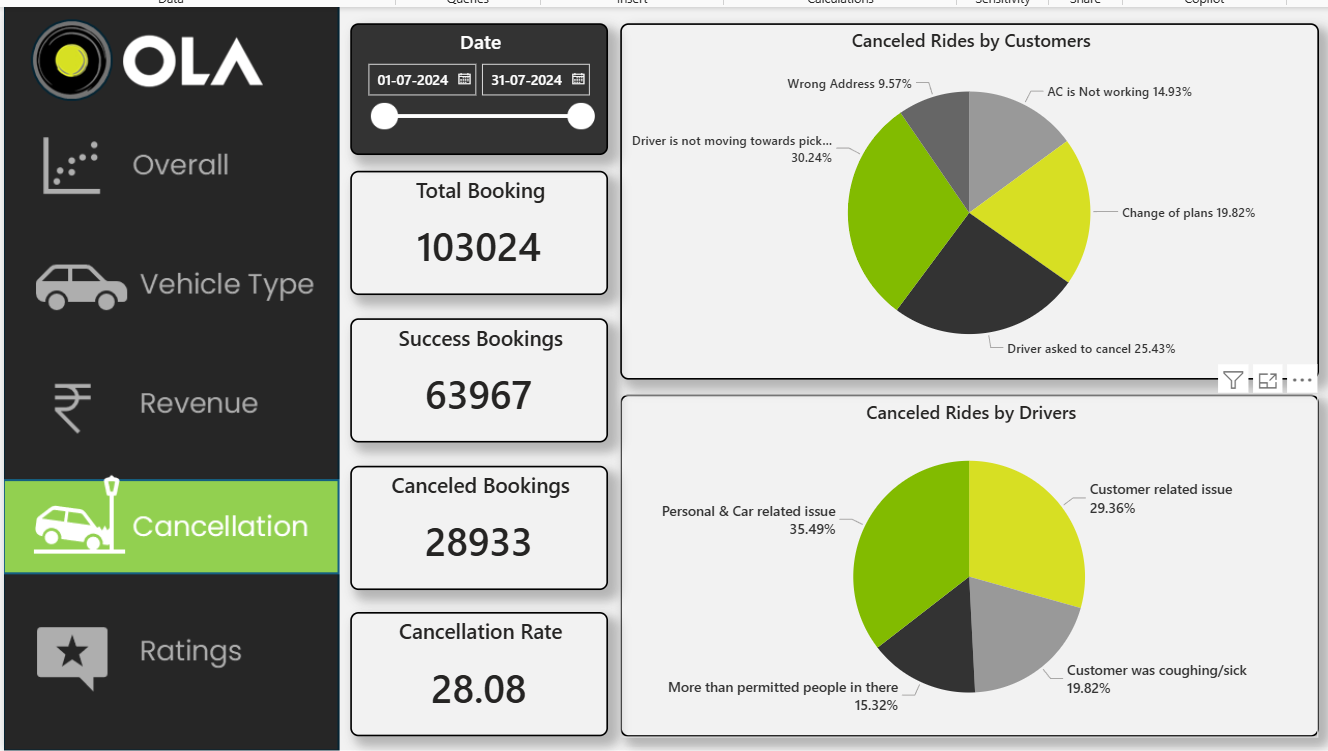

This screenshot's page, from the dashboard's own definition file:
{"tool":"powerbi","page":{"name":"Cancellation","canvas":[1280,720],"ordinal":3},"visuals":[{"type":"actionButton","box":[1.2,575.5,322.1,92.9],"z":0},{"type":"actionButton","box":[2.4,450,322.1,101.3],"z":1000},{"type":"actionButton","box":[0,343.8,322.1,92.9],"z":2000},{"type":"actionButton","box":[0,223.2,322.1,92.9],"z":3000},{"type":"actionButton","box":[0,112.2,322.1,92.9],"z":4000},{"type":"pieChart","title":"Canceled Rides by Customers","fields":{"Y":["CountNonNull(July.Canceled_Rides_by_Customer)"],"Series":["July.Canceled_Rides_by_Customer"]},"box":[594.3,15.7,674.3,344.3],"z":5000},{"type":"pieChart","title":"Canceled Rides by Drivers","fields":{"Y":["CountNonNull(July.Canceled_Rides_by_Driver)"],"Series":["July.Canceled_Rides_by_Driver"]},"box":[594.3,374.3,674.3,330],"z":6000},{"type":"slicer","title":"Date","fields":{"Values":["July.Date"]},"box":[334.3,15.7,248.6,127.1],"z":7000},{"type":"card","title":"Total Booking","fields":{"Values":["Count(July.Booking_ID)"]},"box":[334.3,158.6,248.6,120],"z":8000},{"type":"card","title":"Success Bookings","fields":{"Values":["Count(July.Booking_ID)"]},"box":[334.3,300.5,248.6,120],"z":9000},{"type":"card","title":"Canceled Bookings","fields":{"Values":["Count(July.Booking_ID)"]},"box":[334.3,442.4,248.6,120],"z":10000},{"type":"card","title":"Cancellation Rate ","fields":{"Values":["July.Canceled Percentage"]},"box":[334.3,584.3,248.6,120],"z":11000}]}

Visuals, with their boxes on the page's 1280x720 design canvas (x1, y1, x2, y2). These are canvas units, not pixel positions in the 1328x751 screenshot, which may show the page scaled, cropped or inside an application window:
actionButton: <region>1, 576, 323, 668</region>
actionButton: <region>2, 450, 324, 551</region>
actionButton: <region>0, 344, 322, 437</region>
actionButton: <region>0, 223, 322, 316</region>
actionButton: <region>0, 112, 322, 205</region>
"Canceled Rides by Customers" pieChart: <region>594, 16, 1269, 360</region>
"Canceled Rides by Drivers" pieChart: <region>594, 374, 1269, 704</region>
"Date" slicer: <region>334, 16, 583, 143</region>
"Total Booking" card: <region>334, 159, 583, 279</region>
"Success Bookings" card: <region>334, 300, 583, 420</region>
"Canceled Bookings" card: <region>334, 442, 583, 562</region>
"Cancellation Rate " card: <region>334, 584, 583, 704</region>
